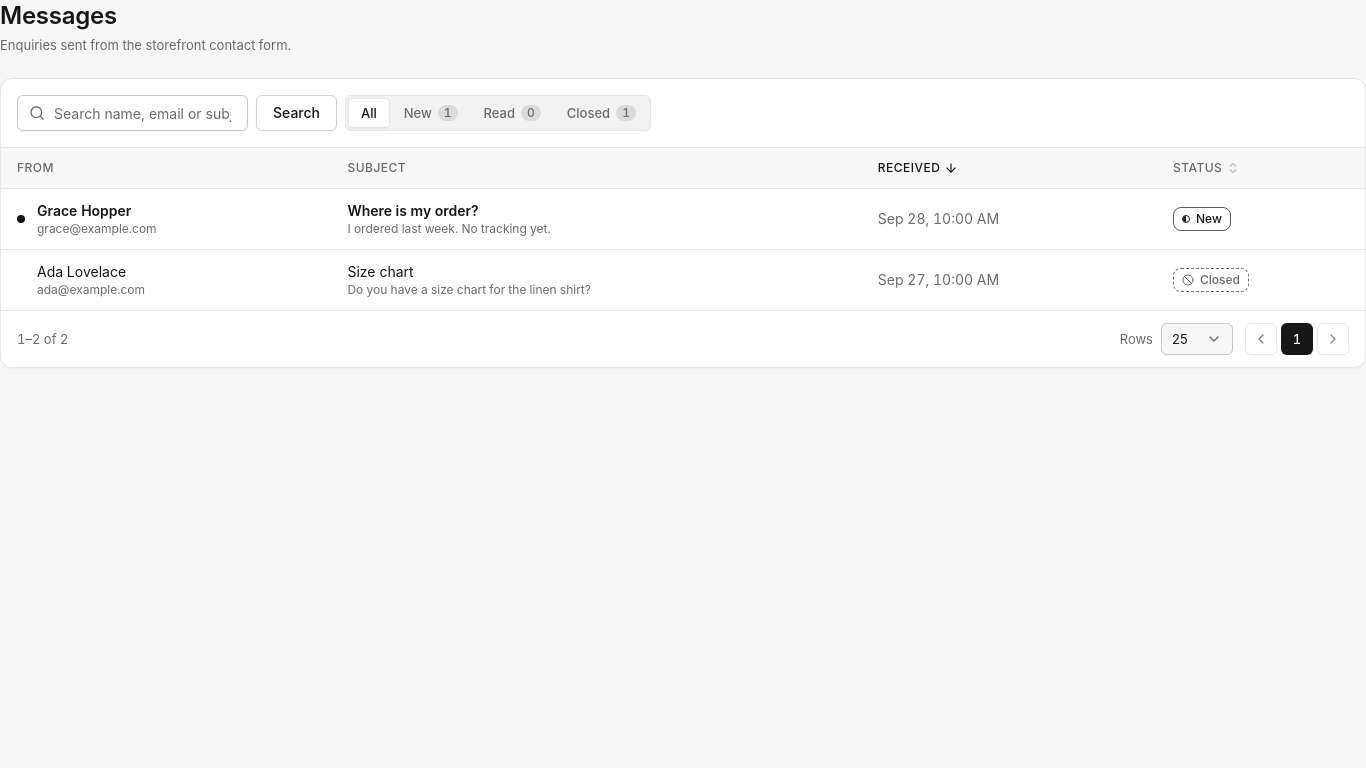
Messages page › is read-only for staff without content:write
The width and height of the screenshot is (1366, 768).
Click the button "Where is my order?" at [413, 210], box [347,200,479,220]
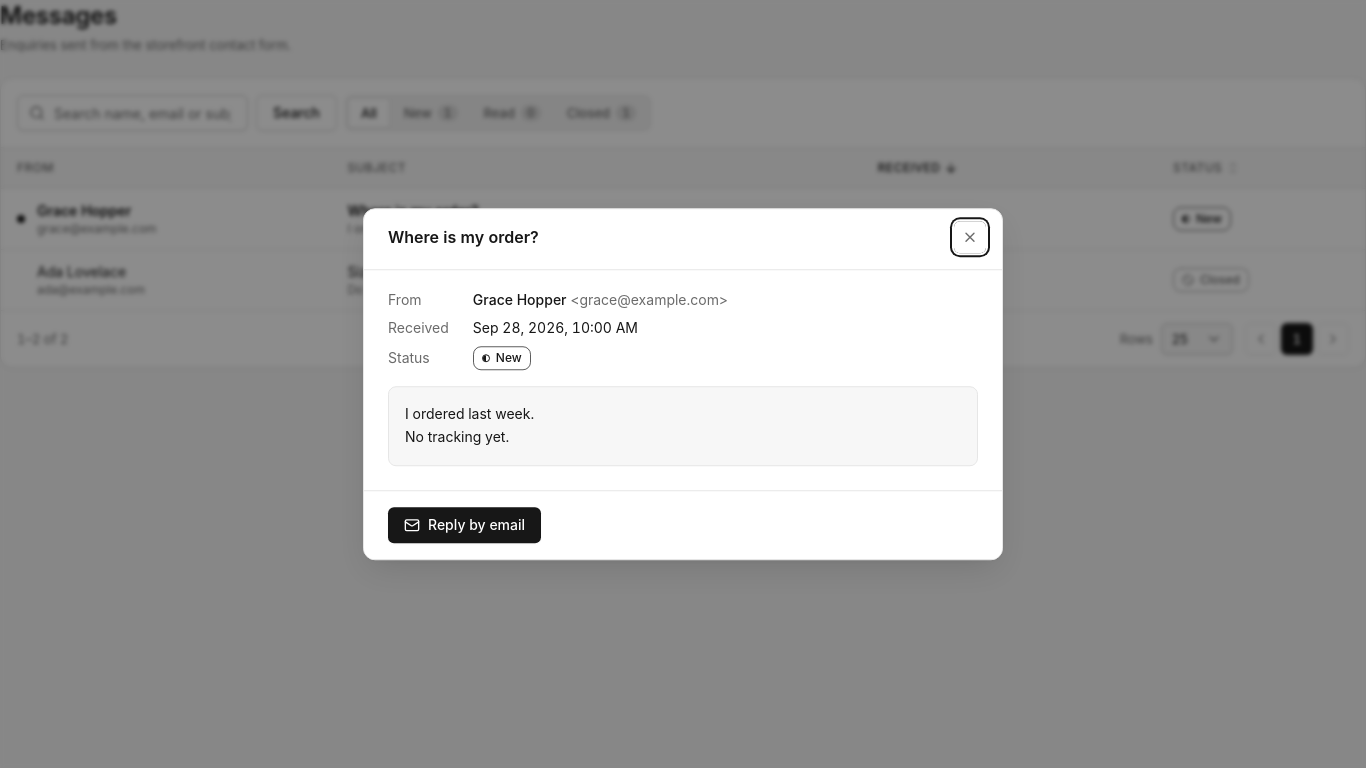
Check: the link "Reply by email" is shown, box [388,507,541,543]
